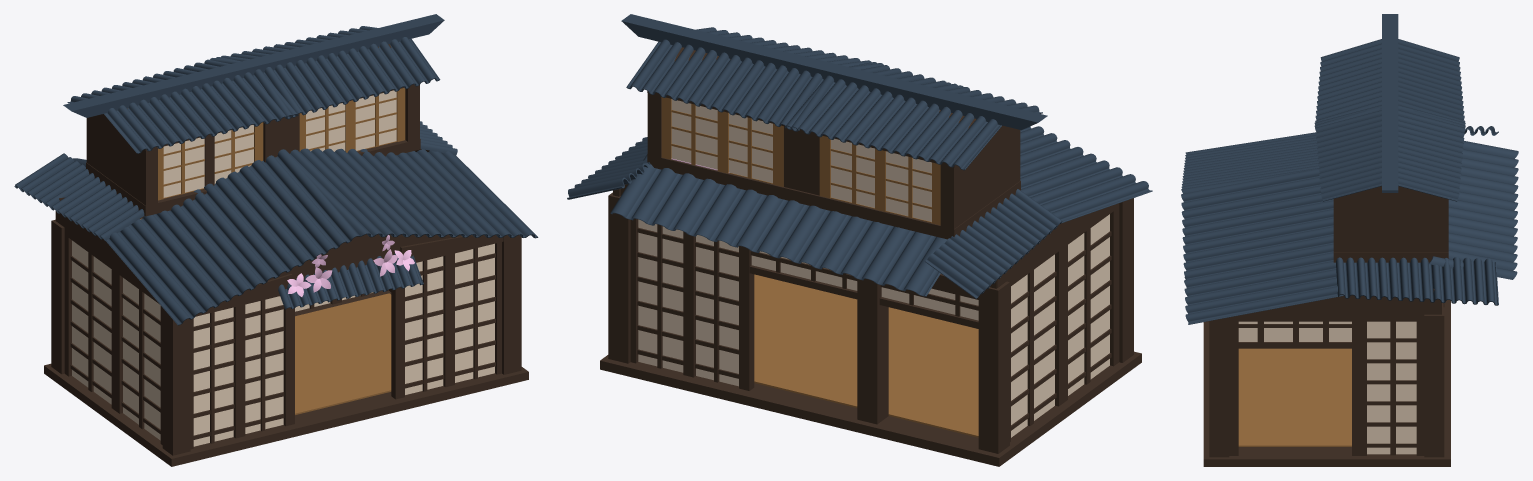
The model's file is OnsenHouse.fbx.
3 views of the same model, side by side, from view 1: azimuth 30°, elevation 25°; view 2: azimuth 150°, elevation 25°; view 3: azimuth 270°, elevation 25° (orthographic). The views are drawn at different scales.
Visible parts, largest first — view 1: OnsenHouse; view 2: OnsenHouse; view 3: OnsenHouse.
Boxes of the visible parts, bbox=[...] form: OnsenHouse: bbox=[14, 14, 538, 466]; OnsenHouse: bbox=[567, 14, 1152, 466]; OnsenHouse: bbox=[1181, 14, 1518, 466].
Size of what is drawn, in the model's own units: 4286 by 3182 by 3472.
